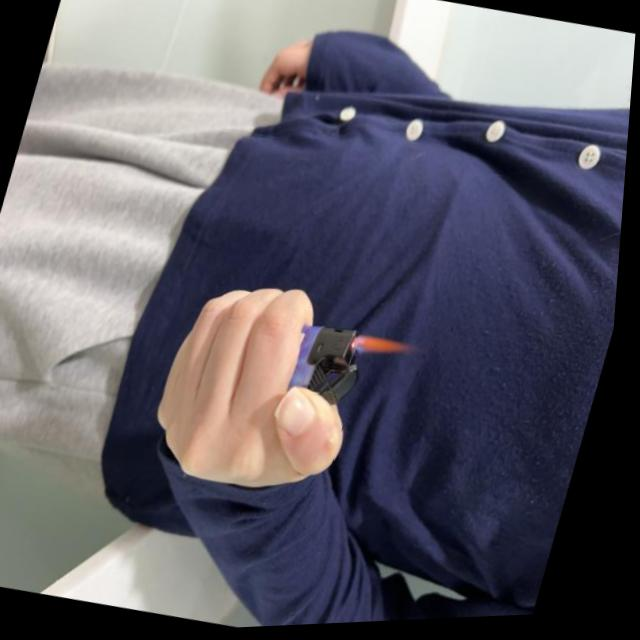Fire: (356, 334, 419, 367)
